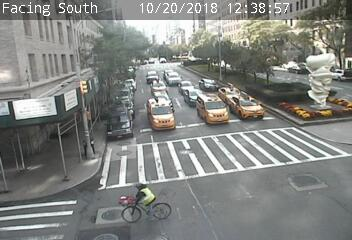car: (197, 95, 230, 124), (148, 99, 177, 130), (230, 95, 264, 120), (153, 92, 176, 110), (184, 89, 207, 105), (219, 87, 242, 102), (150, 80, 168, 94), (199, 79, 218, 91), (167, 72, 183, 84), (178, 81, 195, 91), (146, 70, 159, 81)
